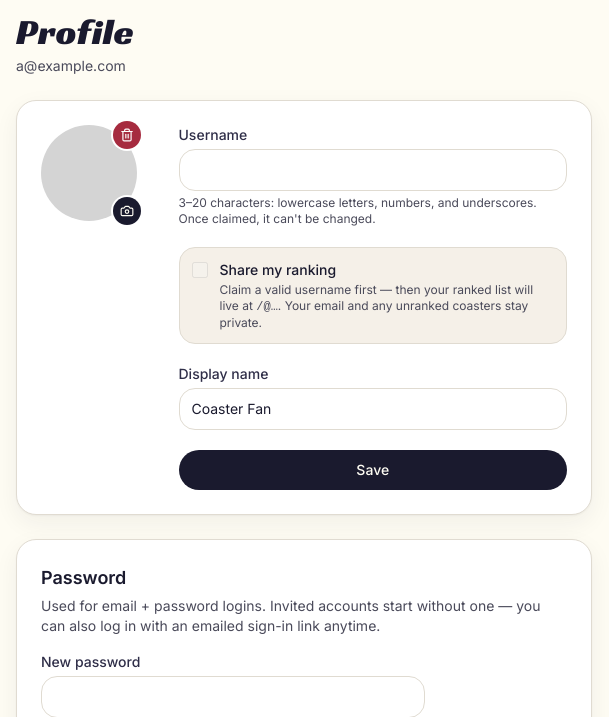
Test case: ProfilePage › surfaces a taken username as a friendly error on claim
Type "taken_handle" into the field labelled "Username" at (373, 170), box [178,149,567,191]
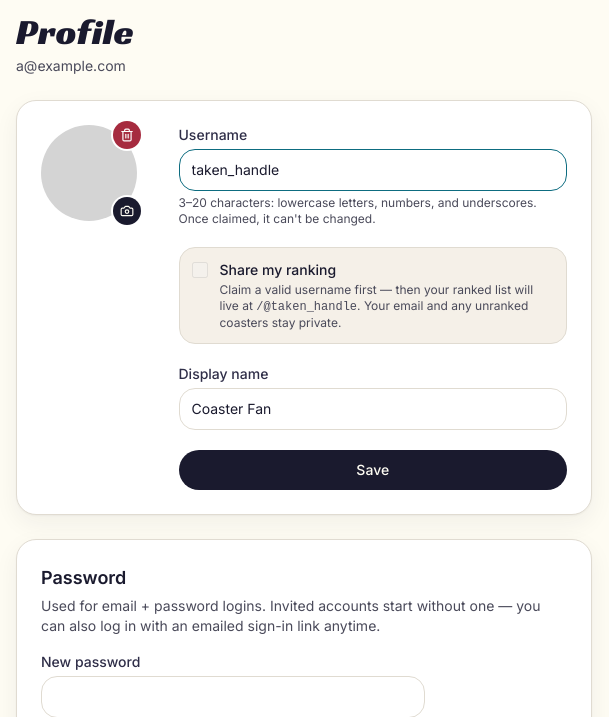
Click the button "Save" at (373, 470), box [178,450,567,490]
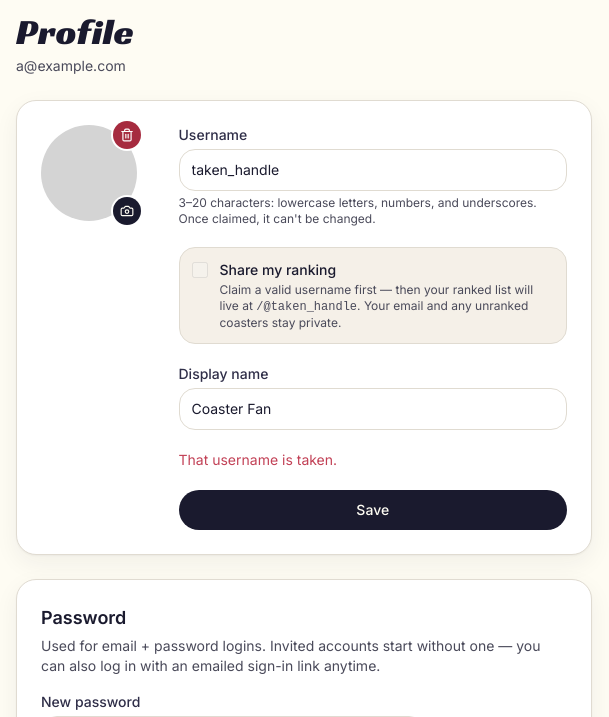
Expected: the text "That username is taken." is shown, [178,451,337,468]
